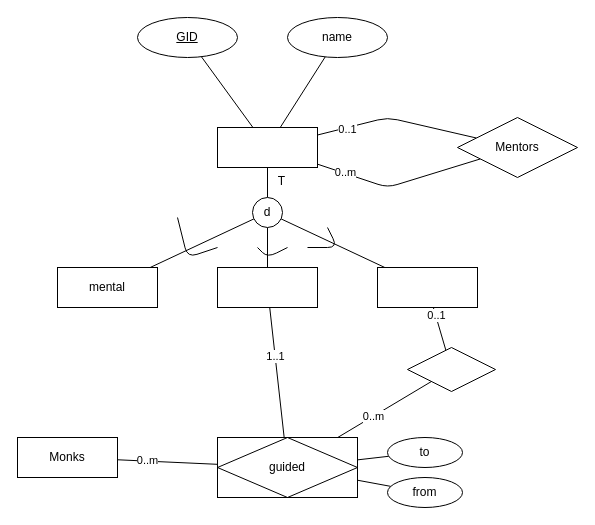
Some shapes in this 595 by 525 pixel diagram are drawn without their labels. Each missing label, with the centre of its shape:
Gurus: [267,147]
Monitors: [451,369]
practical: [427,287]
spiritual: [267,287]
